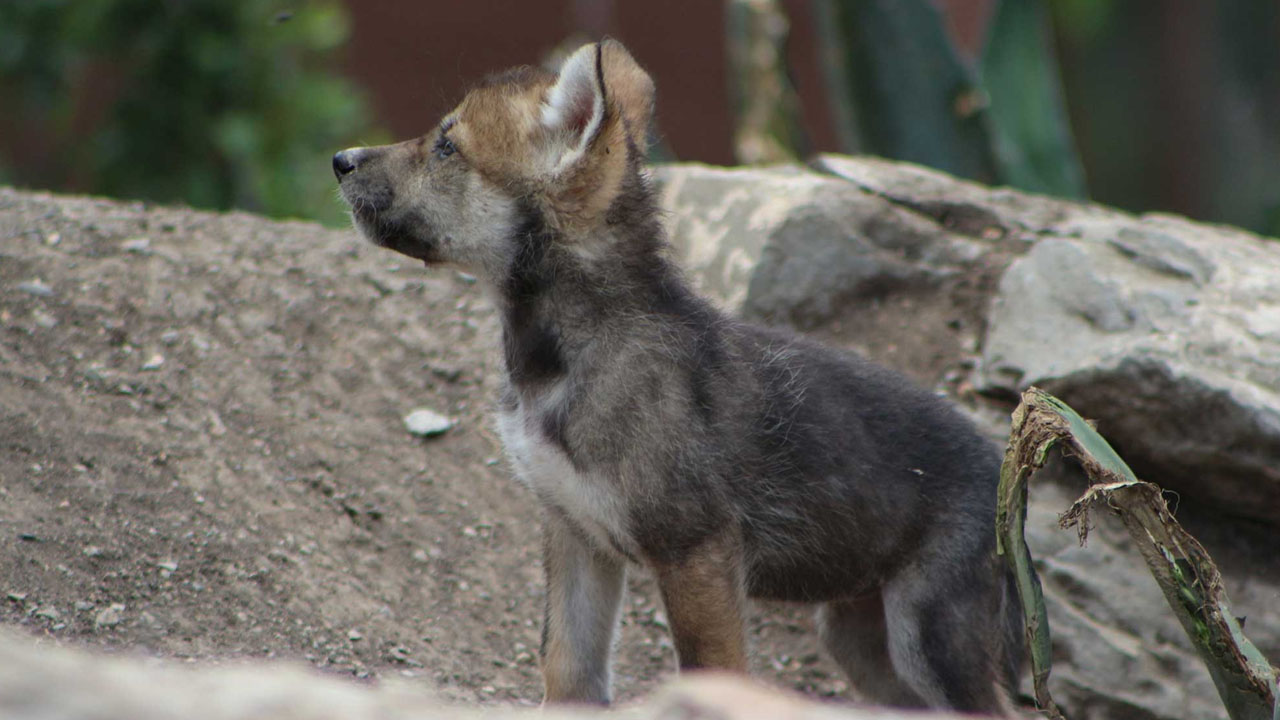Lobo: (309, 23, 1034, 680)
